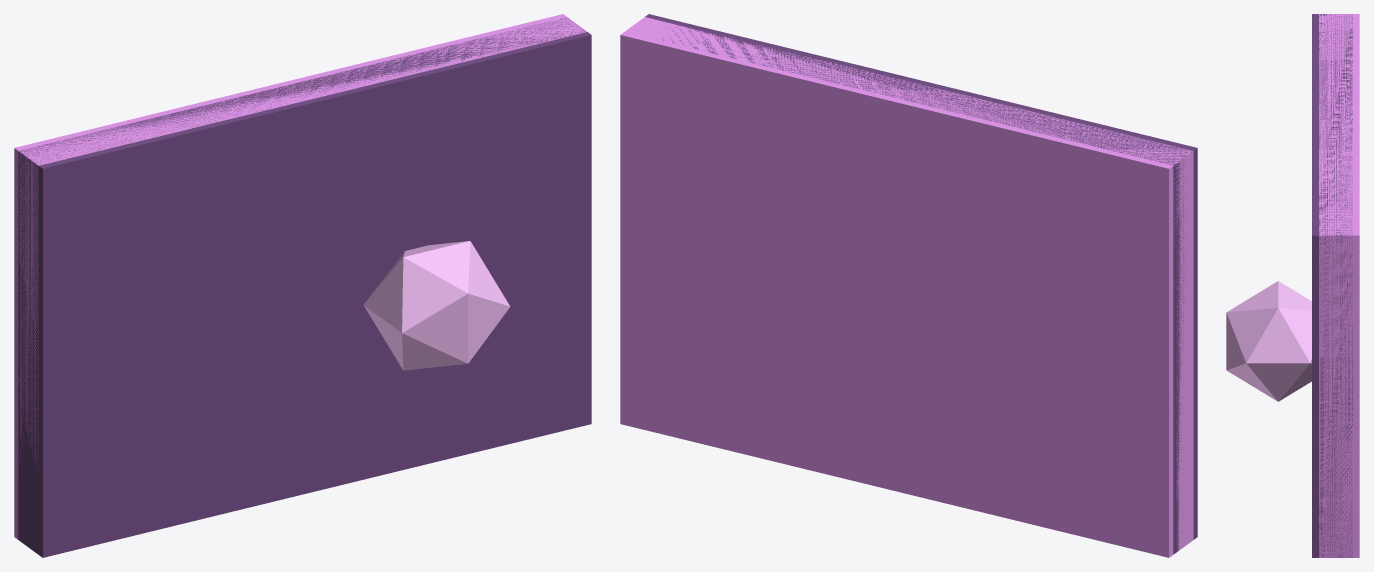
Rendered from mark-node.glb.
3 renders of one model, left to right at view 1: azimuth 30°, elevation 25°; view 2: azimuth 150°, elevation 25°; view 3: azimuth 270°, elevation 25°, orthographic. The views are drawn at different scales.
Parts seen in each view (by area): view 1: screen, frame, dot; view 2: frame, screen; view 3: frame, screen, dot.
Boxes of the visible parts, left/top/right/bottom form: screen: left=18, top=18, right=591, bottom=557; frame: left=14, top=14, right=586, bottom=539; dot: left=363, top=241, right=510, bottom=370; frame: left=620, top=17, right=1193, bottom=557; screen: left=645, top=14, right=1197, bottom=554; frame: left=1319, top=14, right=1359, bottom=557; screen: left=1312, top=14, right=1352, bottom=557; dot: left=1226, top=281, right=1311, bottom=401.
Bounding box in the file's own units: 1.55 × 1.05 × 0.3931.
